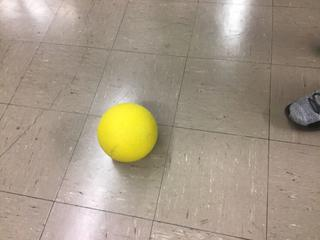power_cell: (92, 103, 161, 158)
